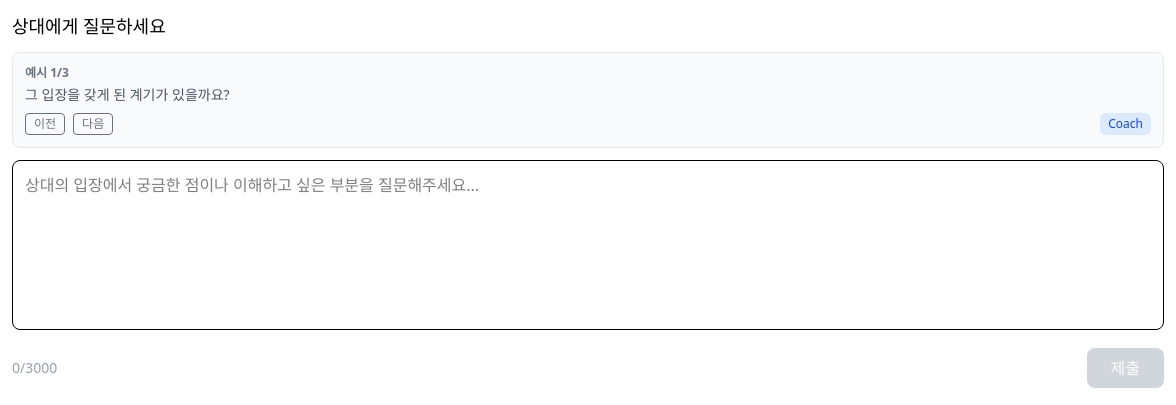
Scenario: TurnSubmissionForm › cycles through examples with next/prev buttons
Expected: the text "예시 1/3" is shown, x1=25 y1=64 x2=69 y2=81
Click the button with aria-label "다음 예시": click(93, 124) x1=73 y1=113 x2=113 y2=135
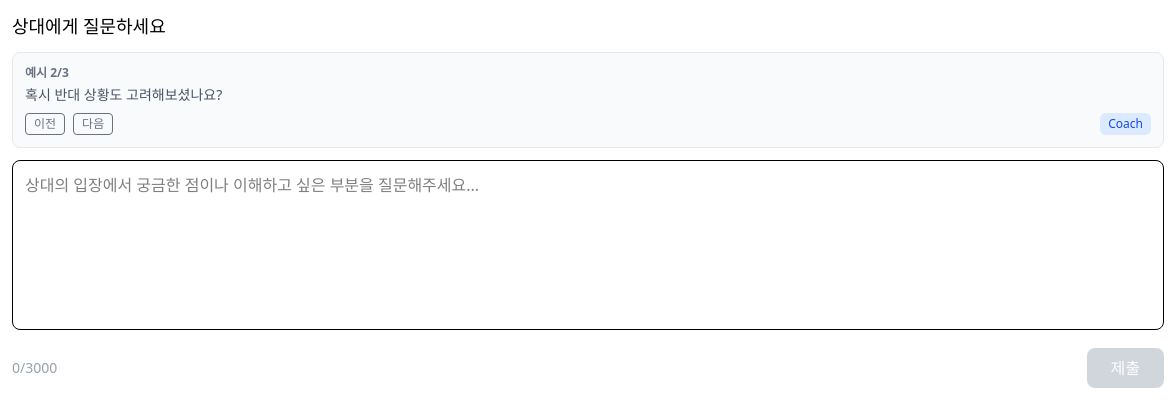
Now the text "예시 2/3" is shown, box x1=25 y1=64 x2=69 y2=81
Click the button with aria-label "이전 예시": click(45, 124) x1=25 y1=113 x2=65 y2=135
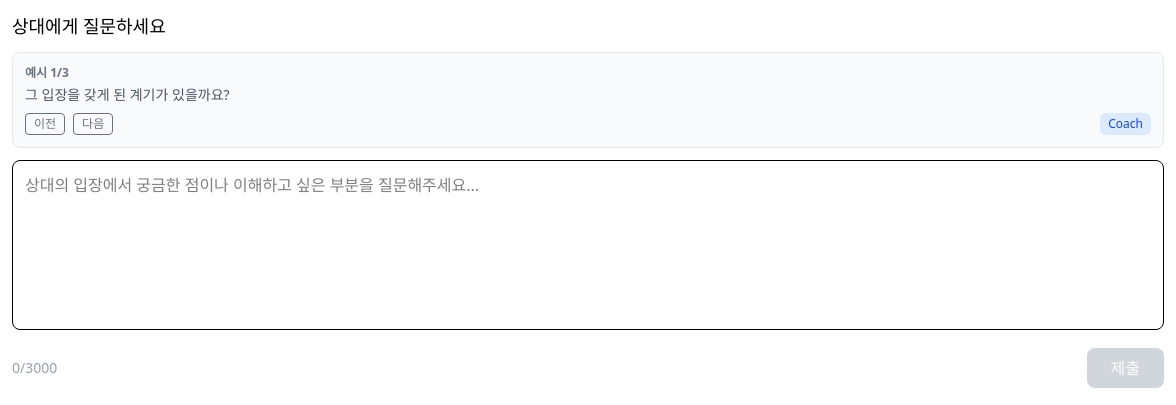
Now the text "예시 1/3" is shown, box x1=25 y1=64 x2=69 y2=81
